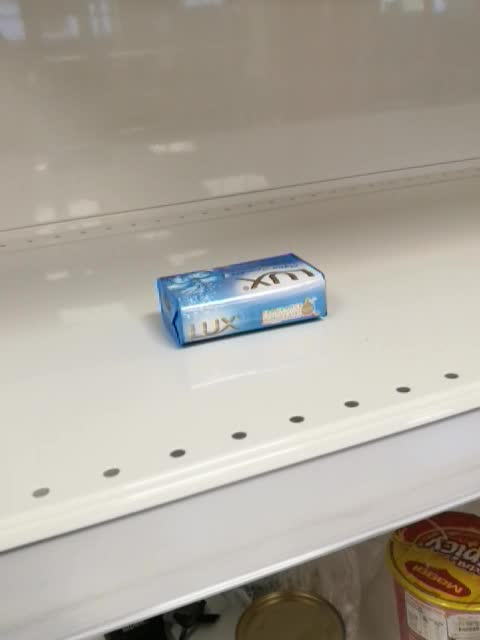soap: (154, 251, 328, 348)
